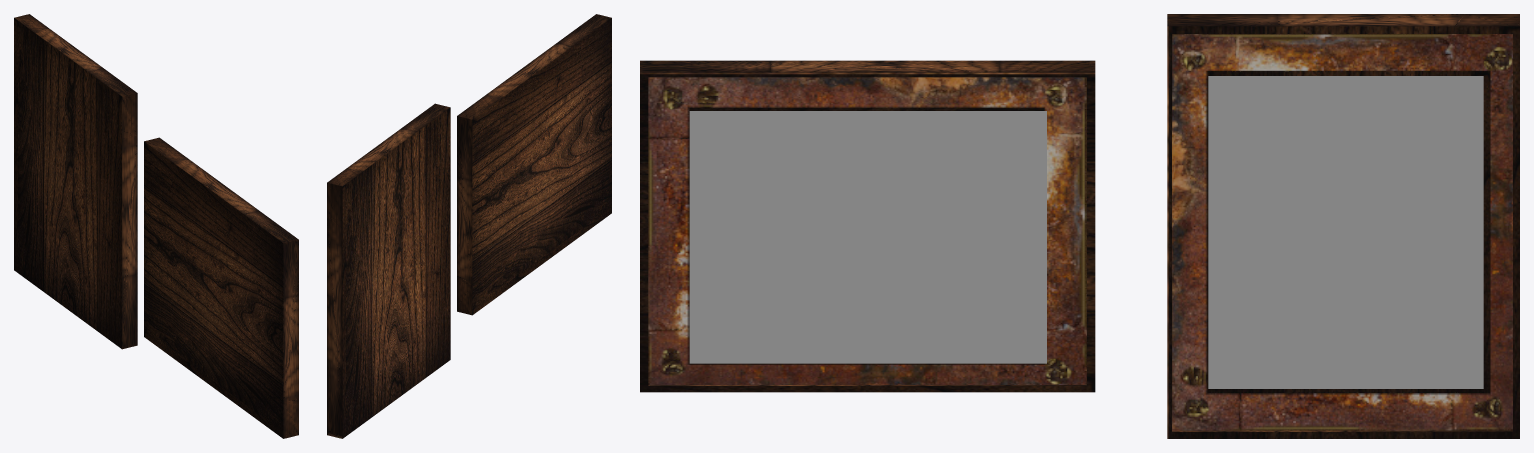
Rendered from cuadro oxidado.fbx.
3 views of the same model, side by side, from view 1: azimuth 30°, elevation 25°; view 2: azimuth 150°, elevation 25°; view 3: azimuth 270°, elevation 25° (orthographic). The views are drawn at different scales.
Parts seen in each view (by area): view 1: pasted__pasted__pCube18, pasted__pasted__pCube1; view 2: pasted__pasted__pCube18, pasted__pasted__pCube1; view 3: pPlane1, pPlane2, pasted__pasted__pCube18, pasted__pasted__pCube1.
Boxes of the visible parts, left/top/right/bottom form: pasted__pasted__pCube18: left=14, top=14, right=137, bottom=349; pasted__pasted__pCube1: left=144, top=137, right=298, bottom=438; pasted__pasted__pCube18: left=327, top=103, right=450, bottom=438; pasted__pasted__pCube1: left=457, top=14, right=611, bottom=315; pPlane1: left=689, top=111, right=1046, bottom=363; pPlane2: left=1208, top=76, right=1483, bottom=388; pasted__pasted__pCube18: left=1167, top=14, right=1519, bottom=438; pasted__pasted__pCube1: left=640, top=60, right=1095, bottom=392.
Size of the model in its own units: 0.087 by 1.27 by 2.45.
